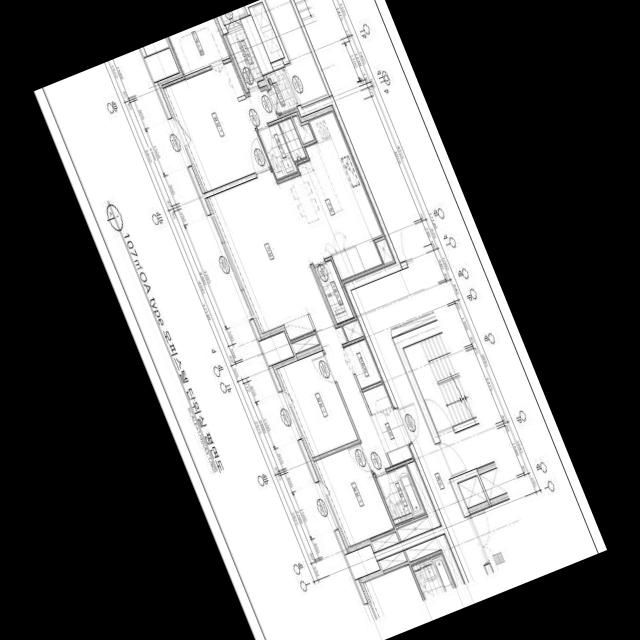background: (33, 0, 607, 640)
space_bedroom: (161, 60, 279, 193), (272, 351, 358, 458), (311, 443, 394, 552)
space_dressroom: (168, 17, 231, 75)
space_elevator_hall: (304, 21, 532, 582)
space_front: (362, 383, 413, 465)
space_kitchen: (297, 105, 384, 284)
space_living_room: (205, 172, 390, 473)
space_multipurpose_space: (313, 260, 354, 324)
space_other: (396, 461, 441, 541), (225, 27, 263, 89), (248, 2, 284, 63), (344, 339, 382, 388), (457, 476, 486, 508), (479, 468, 506, 499), (292, 115, 314, 144), (369, 532, 399, 552), (289, 334, 319, 354), (375, 238, 395, 266), (143, 37, 171, 55), (342, 319, 364, 341)
space_outdoor_room: (265, 68, 298, 116)
space_staircase: (403, 332, 476, 433), (294, 0, 316, 25)
space_toilet: (375, 465, 425, 526), (257, 118, 306, 180)
